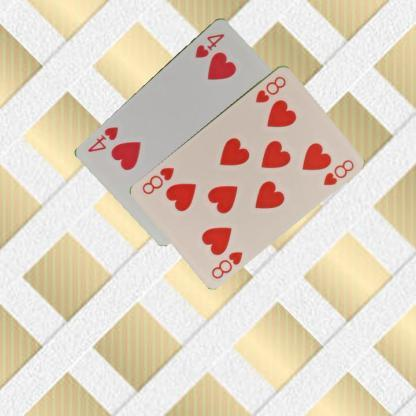4h: (192, 30, 226, 60)
8h: (252, 73, 288, 104), (209, 249, 244, 280)
